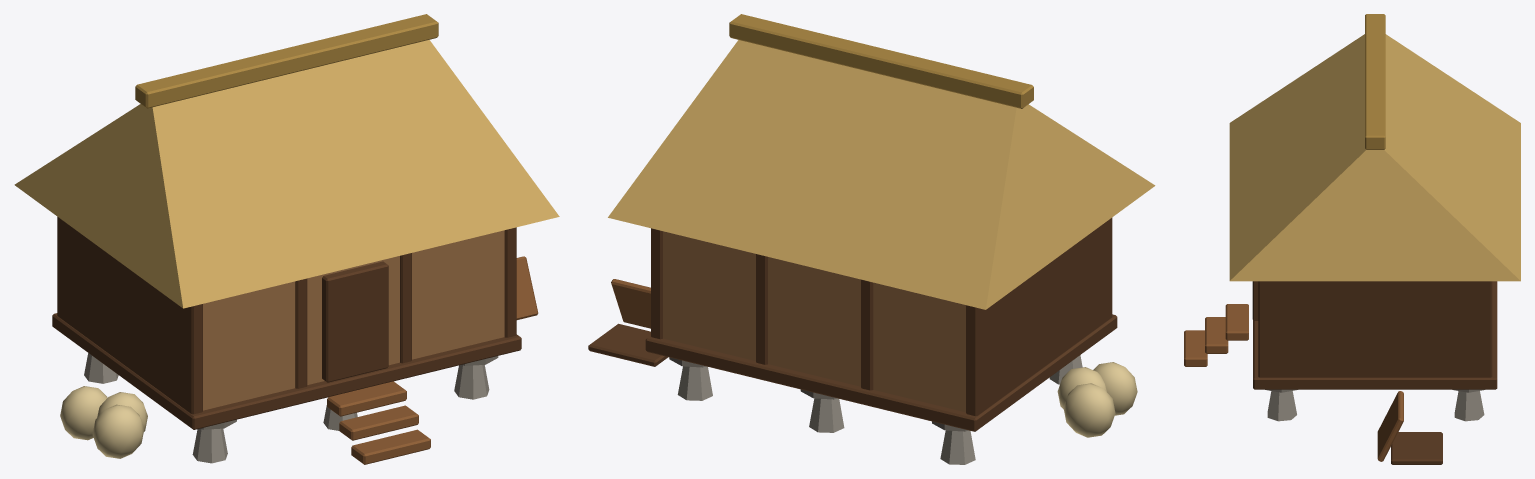
The model's file is granary.glb.
3 views of the same model, side by side, from view 1: azimuth 30°, elevation 25°; view 2: azimuth 150°, elevation 25°; view 3: azimuth 270°, elevation 25° (orthographic). The views are drawn at different scales.
Parts seen in each view (by area): view 1: roof, Cube.001, Cube.002, Cube.012, Cube, Cube.008, Icosphere, Icosphere.001, Cube.009, Cube.010, Cube.011, Cube.003 (+7 smaller); view 2: roof, Cube.001, Cube.002, Cube.012, Cube, Icosphere.001, Cube.013, Cube.014, Cube.003, Icosphere, Cube.004, Cube.005 (+4 smaller); view 3: roof, Cube.005, Cube, Cube.012, Cube.013, Cube.014, Cube.009, Cube.010, Cube.011, Cone.010, Cone.008.
Boxes of the visible parts, box(x1,y1,x2,y2) form: roof: box(14, 40, 559, 308); Cube.001: box(203, 230, 504, 410); Cube.002: box(57, 217, 202, 414); Cube.012: box(135, 14, 438, 108); Cube: box(52, 313, 521, 429); Cube.008: box(322, 261, 388, 382); Icosphere: box(92, 404, 144, 458); Icosphere.001: box(60, 386, 107, 440); Cube.009: box(327, 381, 406, 416); Cube.010: box(339, 405, 418, 440); Cube.011: box(351, 429, 430, 464); Cube.003: box(295, 278, 307, 388); roof: box(608, 40, 1155, 309); Cube.001: box(663, 231, 965, 412); Cube.002: box(966, 217, 1112, 415); Cube.012: box(729, 14, 1033, 108); Cube: box(645, 314, 1117, 431); Icosphere.001: box(1063, 383, 1115, 437); Cube.013: box(588, 323, 668, 366); Cube.014: box(611, 279, 650, 328); Cube.003: box(861, 279, 873, 390); Icosphere: box(1093, 362, 1137, 415); Cube.004: box(756, 254, 767, 364); Cube.005: box(651, 228, 662, 339); roof: box(1229, 34, 1520, 281); Cube.005: box(1258, 281, 1492, 377); Cube: box(1253, 281, 1497, 389); Cube.012: box(1365, 14, 1385, 149); Cube.013: box(1391, 432, 1442, 464); Cube.014: box(1377, 391, 1403, 461); Cube.009: box(1225, 304, 1248, 340); Cube.010: box(1205, 317, 1228, 353); Cube.011: box(1184, 330, 1207, 366); Cone.010: box(1454, 391, 1484, 421); Cone.008: box(1267, 391, 1296, 421).
Bounding box in the file's own units: 9.18 × 6.1 × 6.47.
